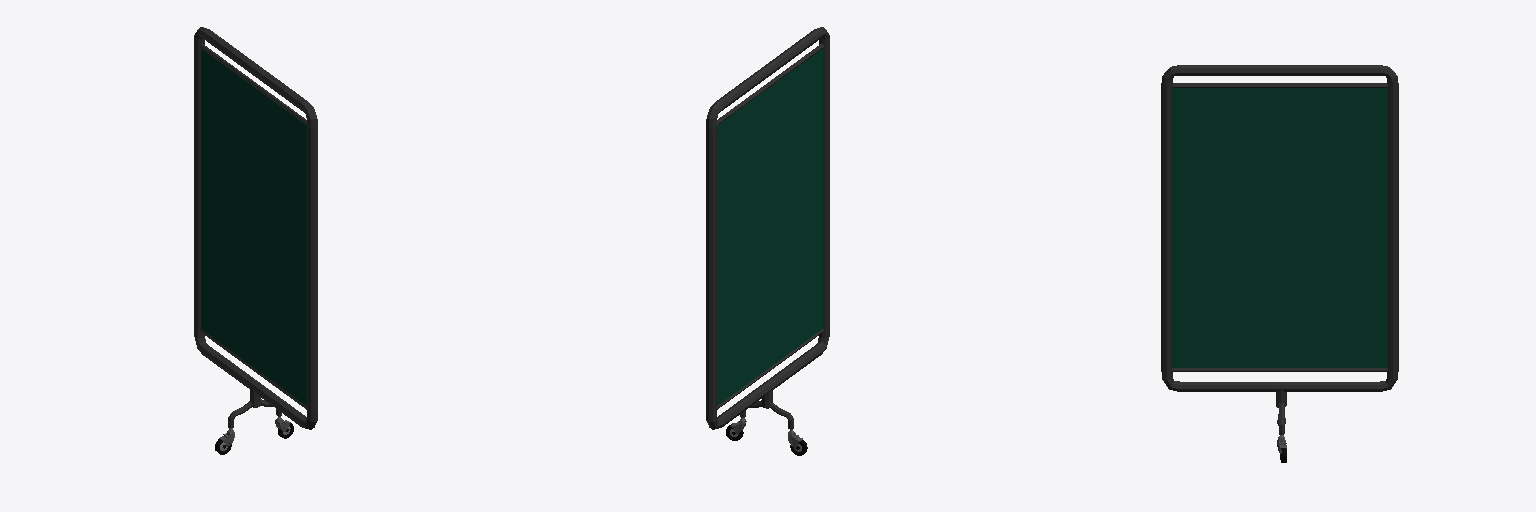
Rendered from MedicalScreenB.obj.
3 views of the same model, side by side, from view 1: azimuth 30°, elevation 25°; view 2: azimuth 150°, elevation 25°; view 3: azimuth 270°, elevation 25° (orthographic).
Parts seen in each view (by area): view 1: MedicalScreenB; view 2: MedicalScreenB; view 3: MedicalScreenB.
Boxes of the visible parts, box(x1,y1,x2,y2) form: MedicalScreenB: box(194, 27, 317, 454); MedicalScreenB: box(706, 27, 829, 455); MedicalScreenB: box(1161, 65, 1398, 462).
Bounding box in the file's own units: 3.07 × 14.18 × 8.